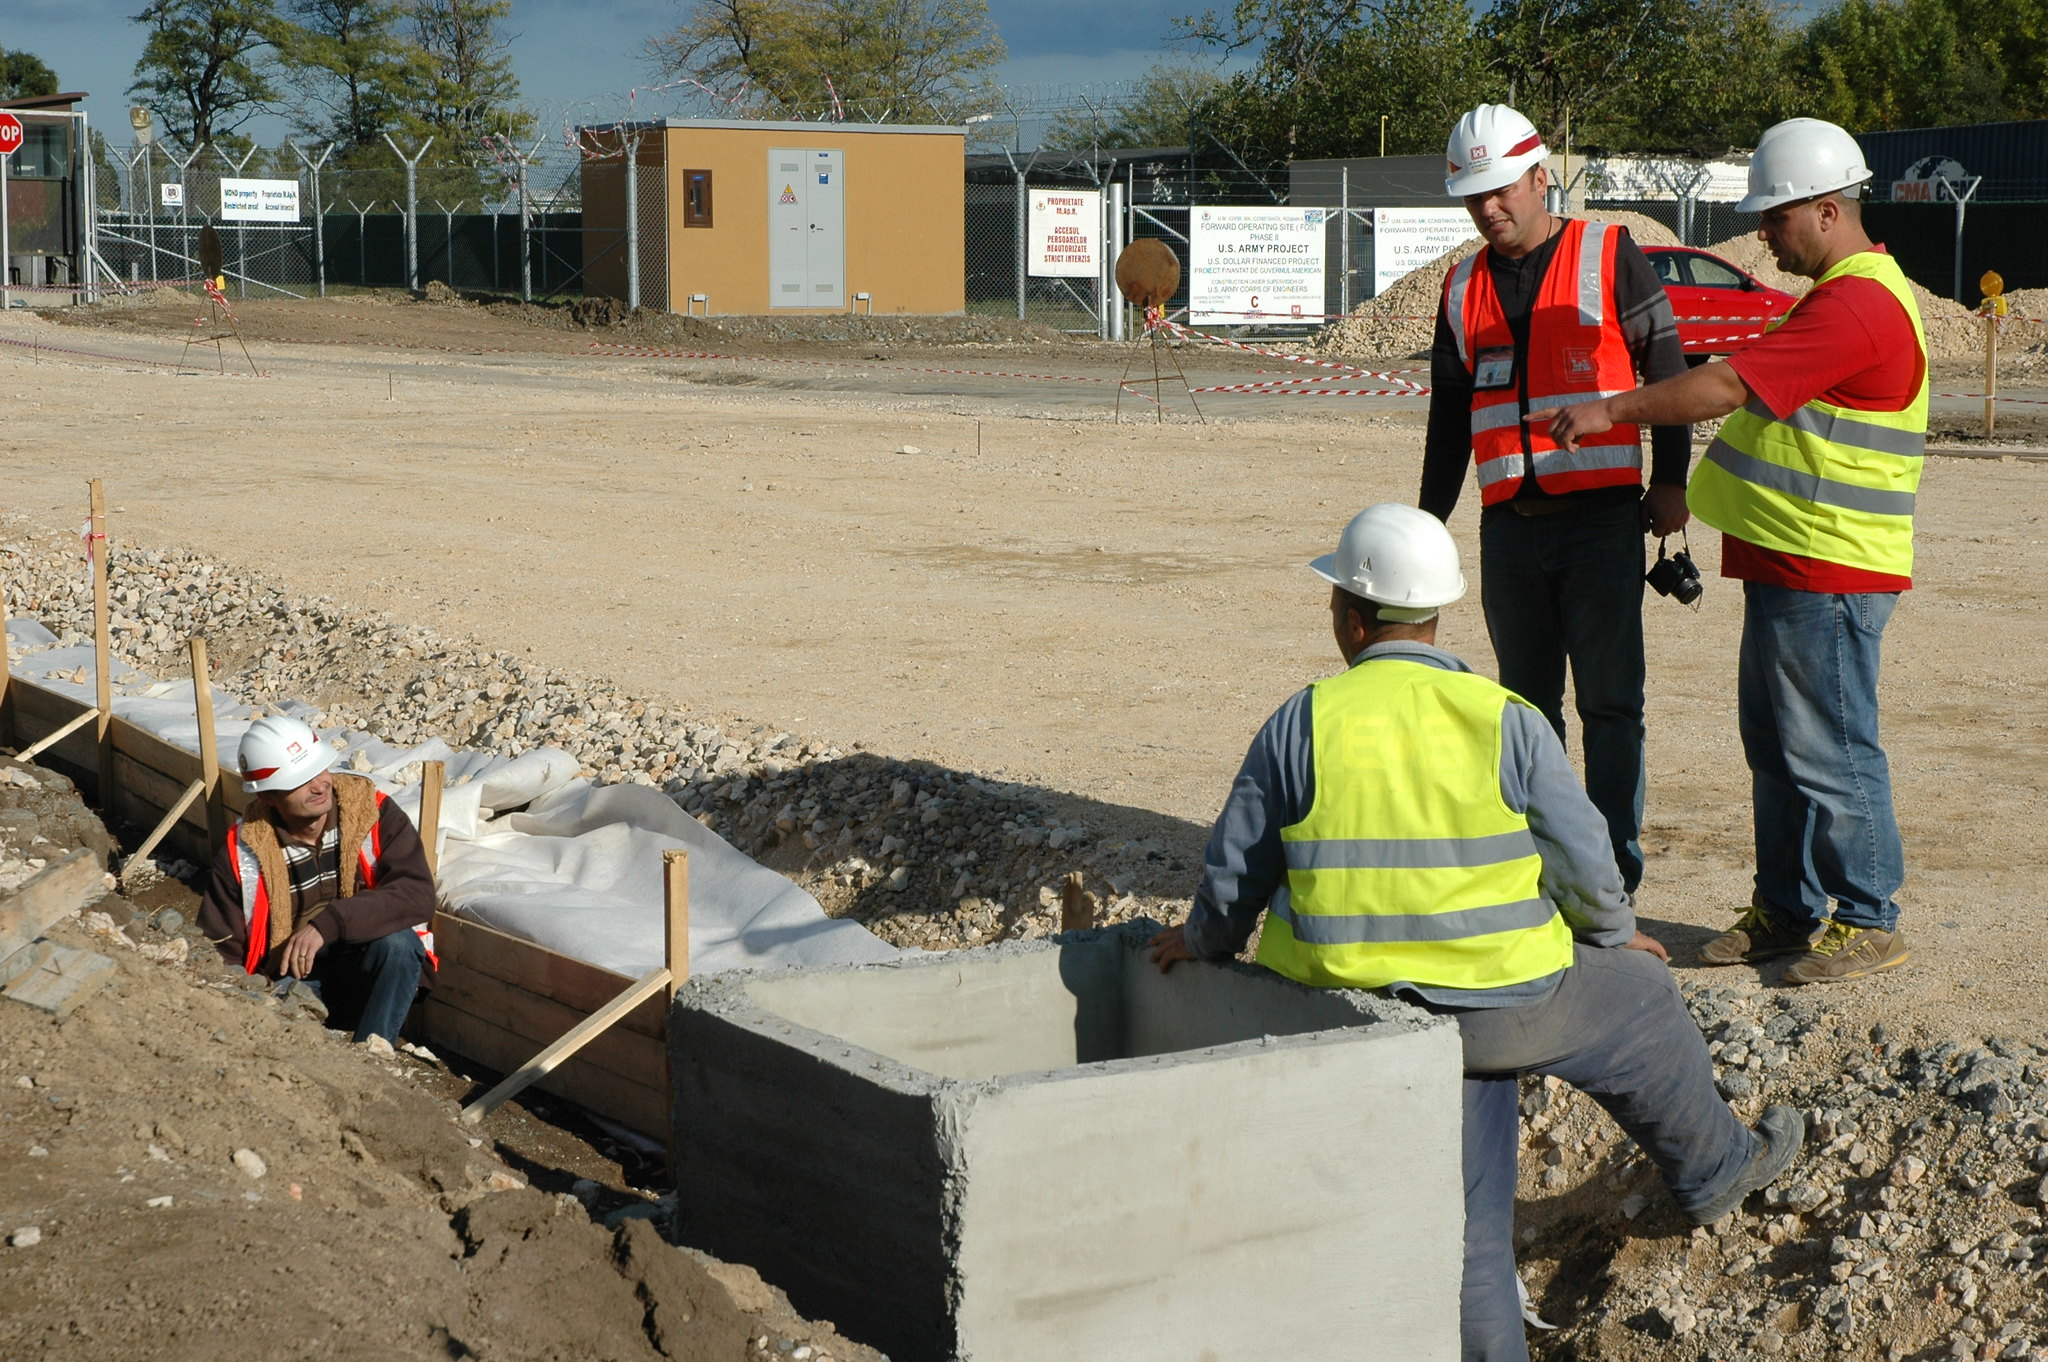Helmet: (1290, 477, 1506, 684), (1720, 71, 1902, 302), (1411, 70, 1569, 277), (223, 705, 340, 809)
Reflective vest: (1253, 660, 1585, 1006), (1677, 249, 1937, 587), (1436, 222, 1662, 511)
